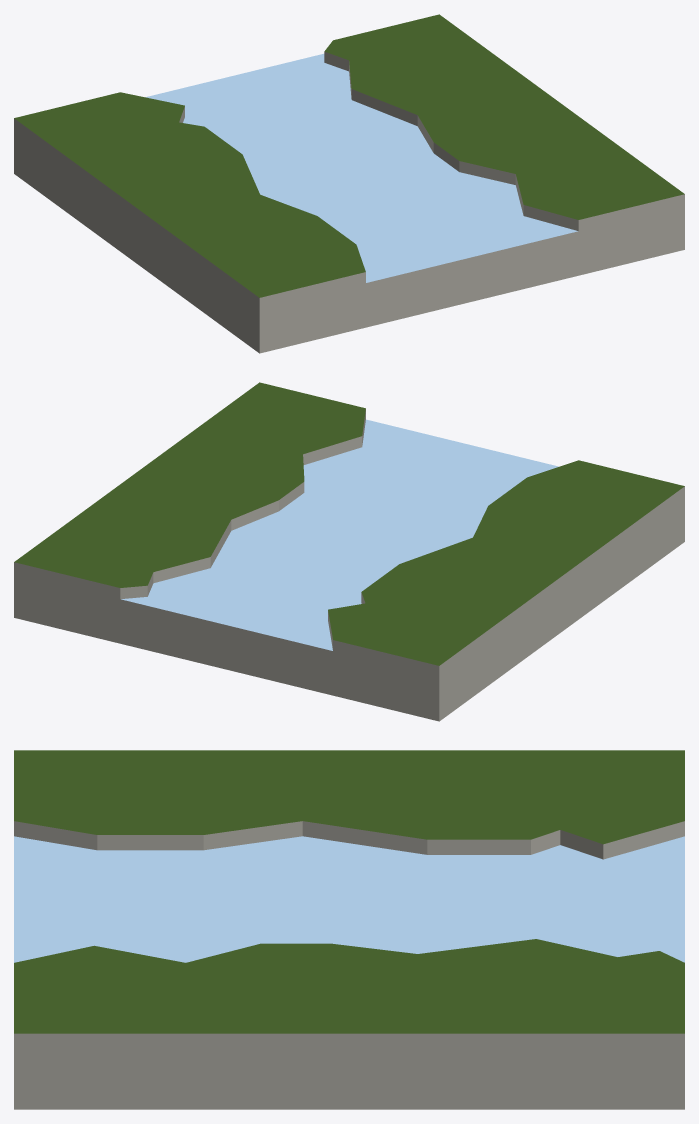
Rendered from Terrain_Tile_Grass_Rock_River_01.fbx.
3 renders of one model, top to bottom at view 1: azimuth 30°, elevation 25°; view 2: azimuth 150°, elevation 25°; view 3: azimuth 270°, elevation 25°, orthographic. The views are drawn at different scales.
Parts seen in each view (by area): view 1: Terrain_Tile_Grass_Rock_River_01; view 2: Terrain_Tile_Grass_Rock_River_01; view 3: Terrain_Tile_Grass_Rock_River_01.
Part boxes in pixels (x1=…): Terrain_Tile_Grass_Rock_River_01: x1=14, y1=14, x2=684, y2=353; Terrain_Tile_Grass_Rock_River_01: x1=14, y1=382, x2=684, y2=721; Terrain_Tile_Grass_Rock_River_01: x1=14, y1=750, x2=684, y2=1109.
Size of the model in its own units: 126 by 15.75 by 126.
